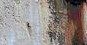Corrosion: (47, 1, 87, 45)
